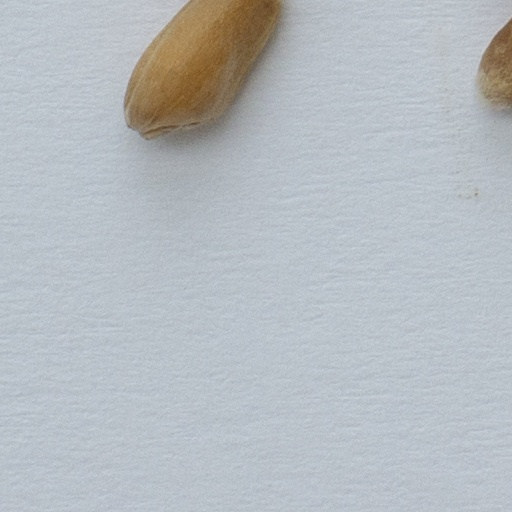Wheat-grain-poly: (120, 0, 284, 144), (477, 14, 511, 109)
